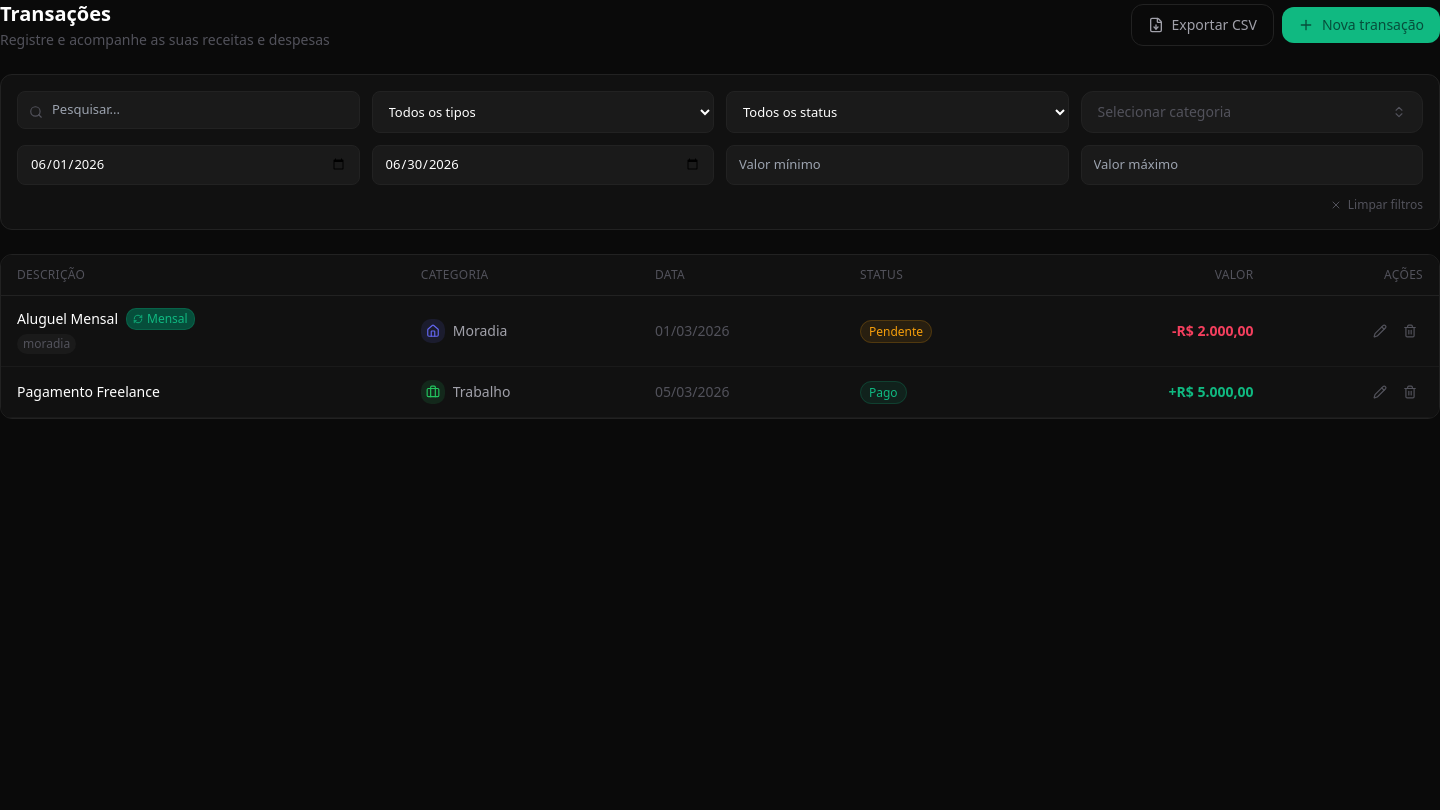
TransactionsPage › deve abrir modal ao clicar em nova transação
Click the button "Nova transação" at x=1361, y=25, box [1282,7,1439,43]
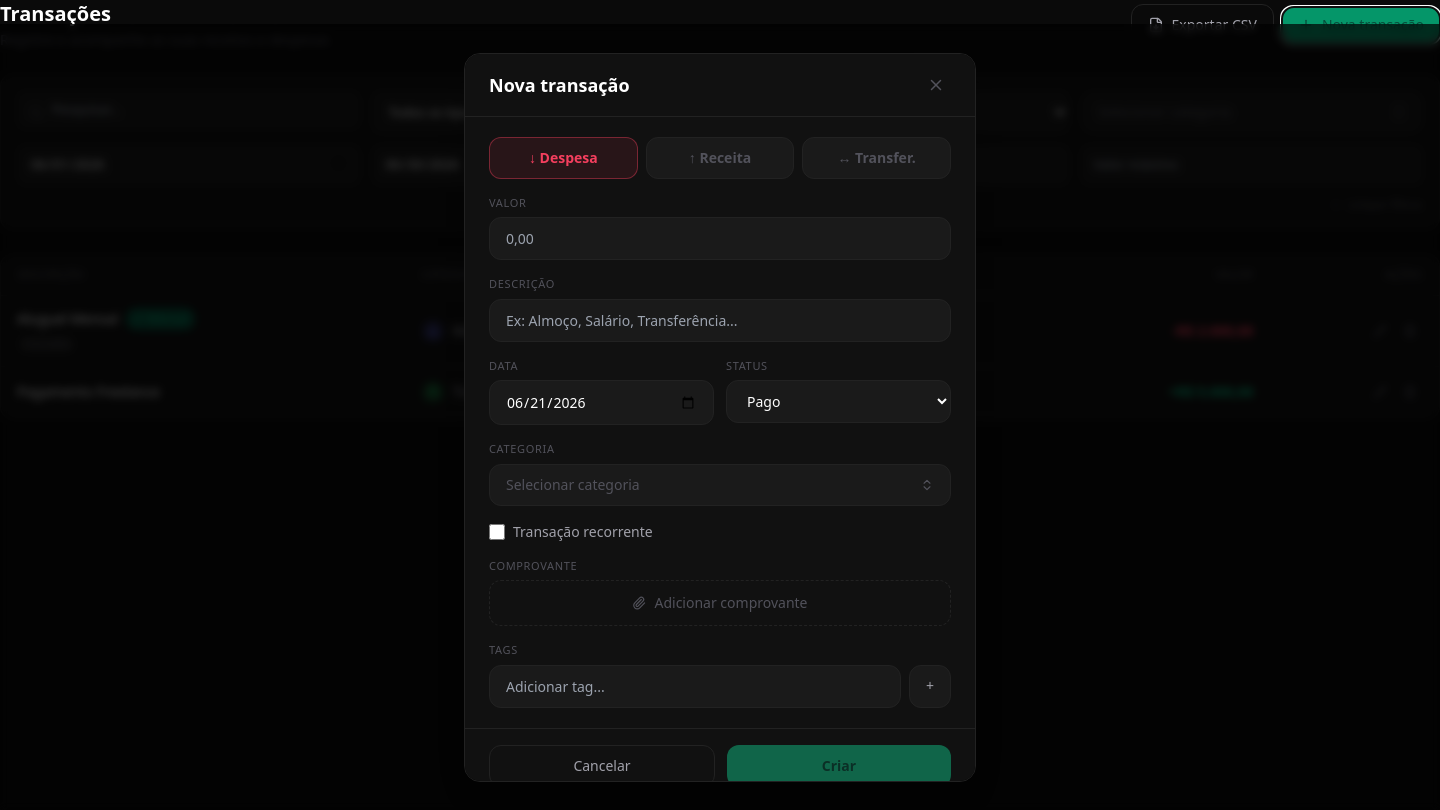
Result: the heading "Nova transação" is shown at [489,70,630,98]
